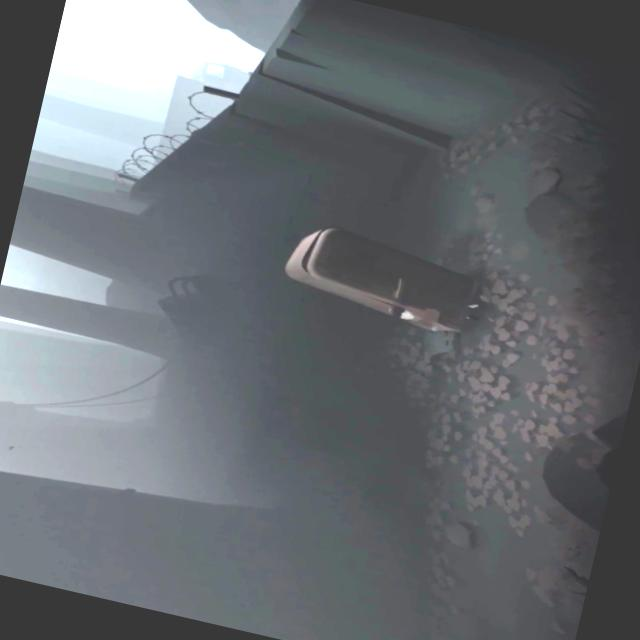boy: (386, 284, 480, 342)
